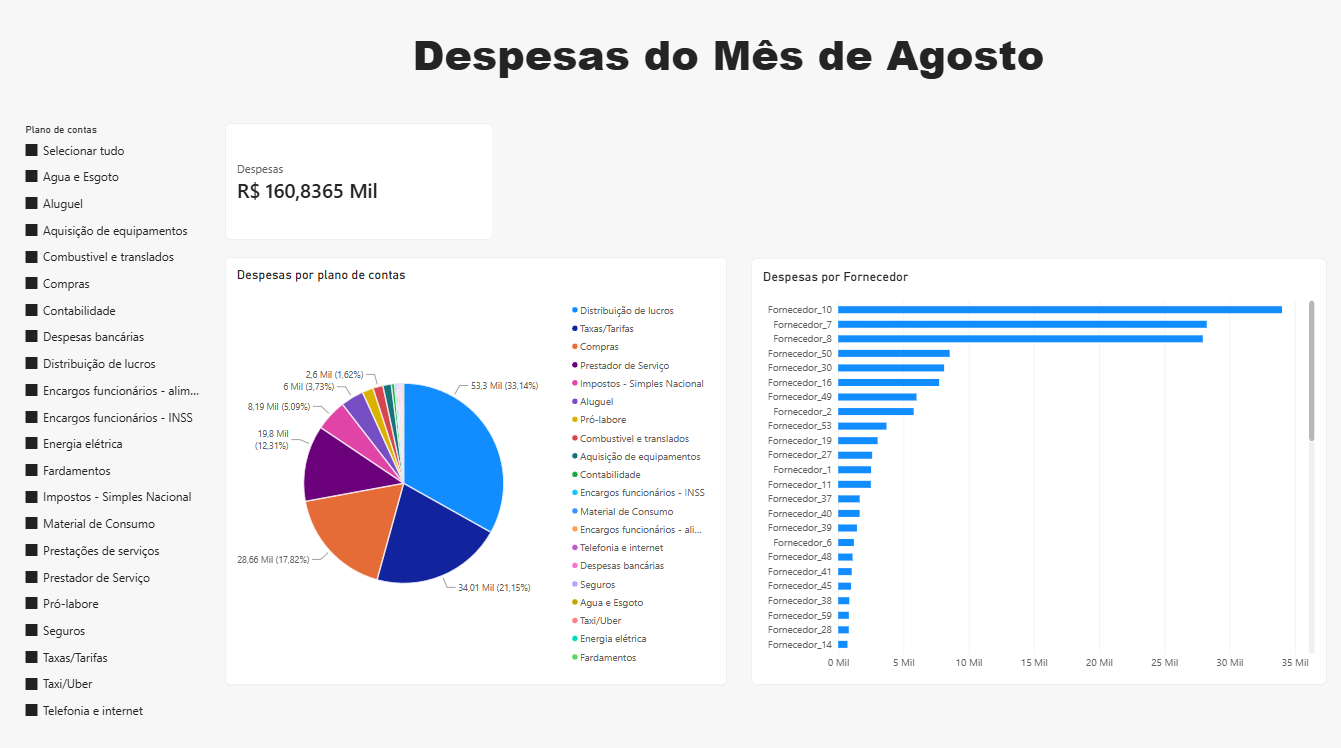

This screenshot's page, from the dashboard's own definition file:
{"tool":"powerbi","page":{"name":"Despesas","canvas":[1920,1080],"ordinal":0},"visuals":[{"type":"pieChart","title":"Despesas por plano de contas","fields":{"Category":["Relatório de extrato.Plano de contas"],"Y":["Relatório de extrato.Gastos_totais"]},"box":[321.1,370.5,714.2,609.3],"z":0},{"type":"barChart","title":"Despesas por Fornecedor","fields":{"Category":["Relatório de extrato.Fornecedor"],"Y":["Relatório de extrato.Gastos_totais"]},"box":[1070.3,372.6,819.2,607.2],"z":1000},{"type":"cardVisual","title":"Total de Despesas ","fields":{"Data":["Relatório de extrato.Gastos_totais"]},"box":[321.1,179.1,382.8,166.7],"z":2000},{"type":"slicer","fields":{"Values":["Relatório de extrato.Plano de contas"]},"box":[28.8,179.1,263.5,864.5],"z":3000},{"type":"textbox","box":[559.9,39.1,953,100.9],"z":4000}]}

Visuals, with their boxes in screenshot pixels (x1, y1, x2, y2), scaled from the page's 1920x1080 canvas onto the 1341x748 screenshot:
"Despesas por plano de contas" pieChart: (x1=224, y1=257, x2=723, y2=679)
"Despesas por Fornecedor" barChart: (x1=748, y1=258, x2=1320, y2=679)
"Total de Despesas " cardVisual: (x1=224, y1=124, x2=492, y2=239)
slicer - Relatório de extrato.Plano de contas: (x1=20, y1=124, x2=204, y2=723)
textbox: (x1=391, y1=27, x2=1057, y2=97)
